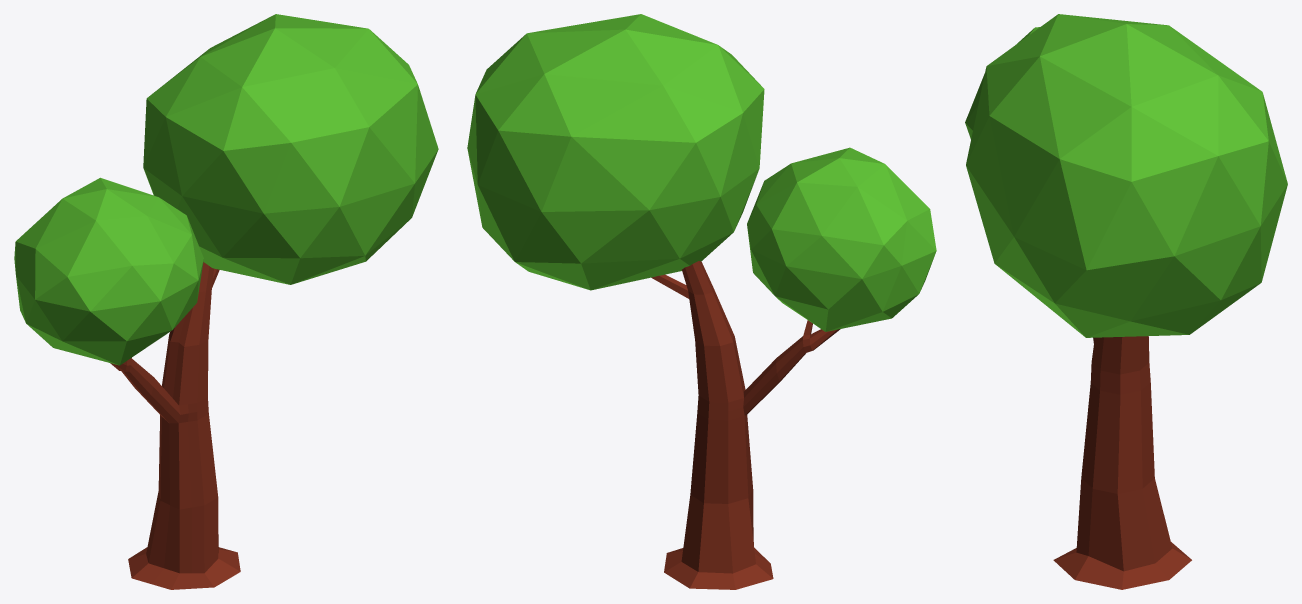
File: drzewo.fbx
3 views of the same model, side by side, from view 1: azimuth 30°, elevation 25°; view 2: azimuth 150°, elevation 25°; view 3: azimuth 270°, elevation 25° (orthographic). The views are drawn at different scales.
Visible parts, largest first — view 1: Icosphere.001, Icosphere, Cube; view 2: Icosphere.001, Icosphere, Cube; view 3: Icosphere.001, Cube, Icosphere.
Part boxes in pixels (x1,y1,x2,y2): Icosphere.001: (143,14,438,284); Icosphere: (14,177,203,365); Cube: (110,262,240,589); Icosphere.001: (467,14,764,290); Icosphere: (747,147,936,331); Cube: (651,261,840,589); Icosphere.001: (966,14,1287,337); Cube: (1053,336,1191,589); Icosphere: (965,27,1039,139).
Bounding box in the file's own units: 573 × 671 × 332.
